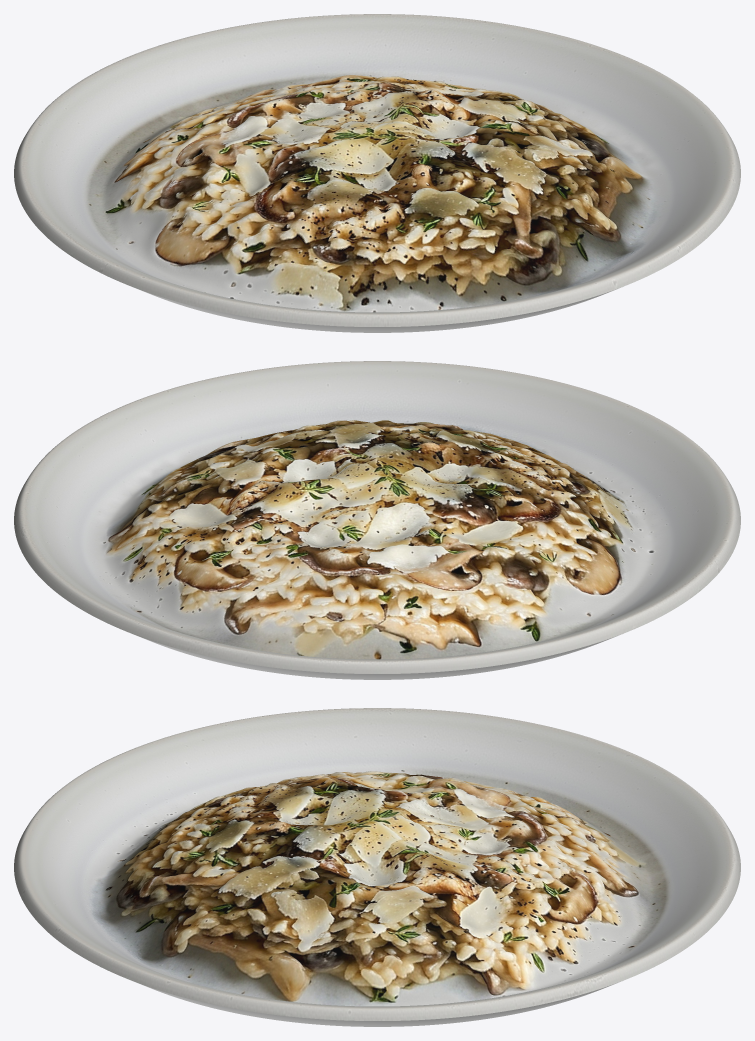
Rendered from risoto-funghi.glb.
3 renders of one model, top to bottom at view 1: azimuth 30°, elevation 25°; view 2: azimuth 150°, elevation 25°; view 3: azimuth 270°, elevation 25°, orthographic.
Visible parts, largest first — view 1: risoto-funghi; view 2: risoto-funghi; view 3: risoto-funghi.
Boxes of the visible parts, x1,y1,x2,y2 form: risoto-funghi: (14, 14, 740, 332); risoto-funghi: (14, 361, 740, 679); risoto-funghi: (14, 708, 740, 1026).
Size of the model in its own units: 0.28 by 0.039 by 0.28.
Materials: 2 (1 with a texture image).
